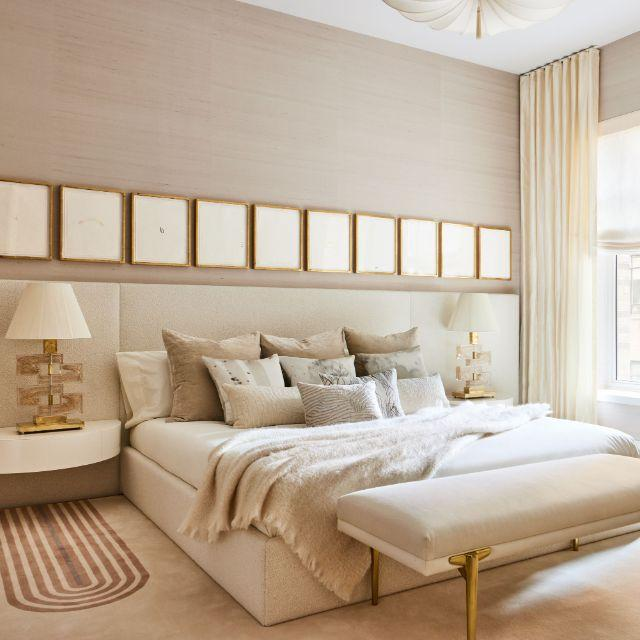bed: (125, 421, 640, 623)
lamp: (0, 272, 94, 440), (447, 289, 499, 401)
pillow: (159, 326, 286, 424), (347, 324, 451, 418), (292, 375, 379, 426), (225, 381, 308, 432)
window: (580, 125, 640, 404)
